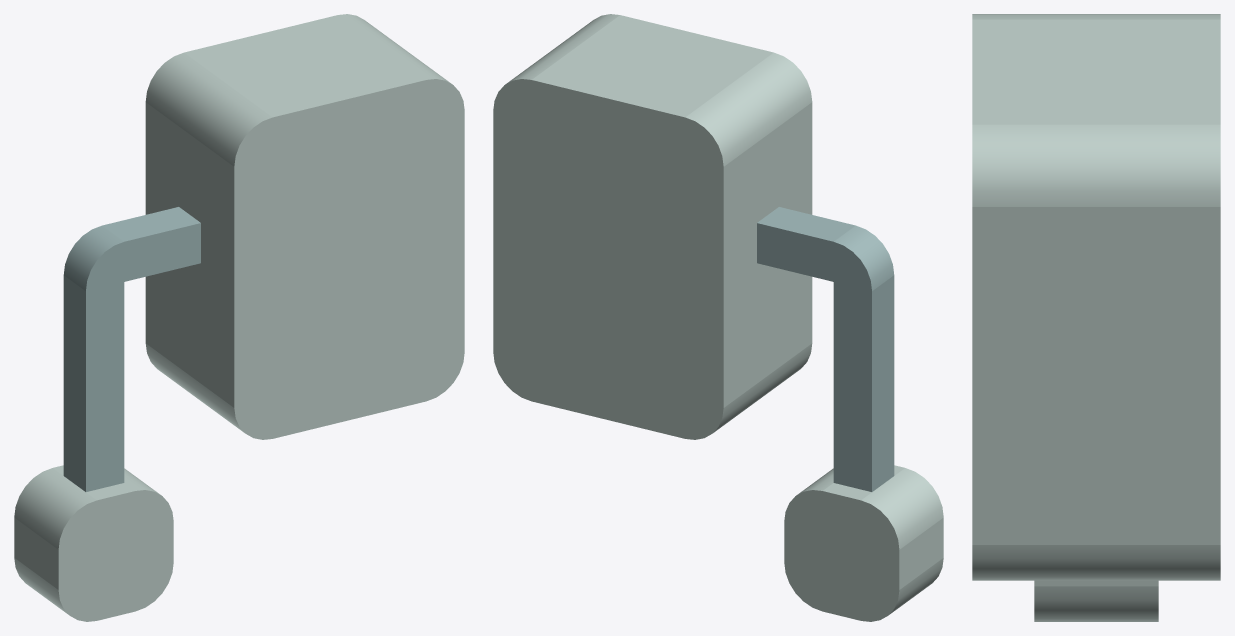
Rendered from Cable Box.glb.
3 renders of one model, left to right at view 1: azimuth 30°, elevation 25°; view 2: azimuth 150°, elevation 25°; view 3: azimuth 270°, elevation 25°, orthographic. The views are drawn at different scales.
Parts seen in each view (by area): view 1: generated(Clone); view 2: generated(Clone); view 3: generated(Clone).
Boxes of the visible parts, box(x1,y1,x2,y2) form: generated(Clone): box(14, 14, 464, 621); generated(Clone): box(493, 14, 943, 621); generated(Clone): box(972, 14, 1220, 621).
Size of the model in its own units: 10 by 12 by 4.
1 material, 1 textured.
